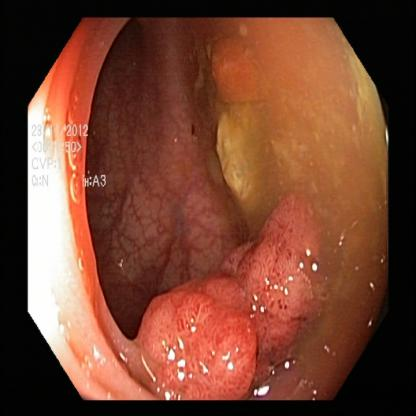Labels: (25, 118, 117, 205)
Polyps: (142, 281, 259, 399), (240, 212, 330, 333)
